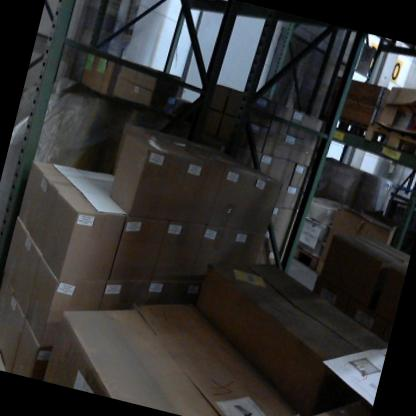pallet: (362, 122, 416, 167), (319, 110, 379, 145), (289, 240, 321, 275), (0, 325, 15, 371)
